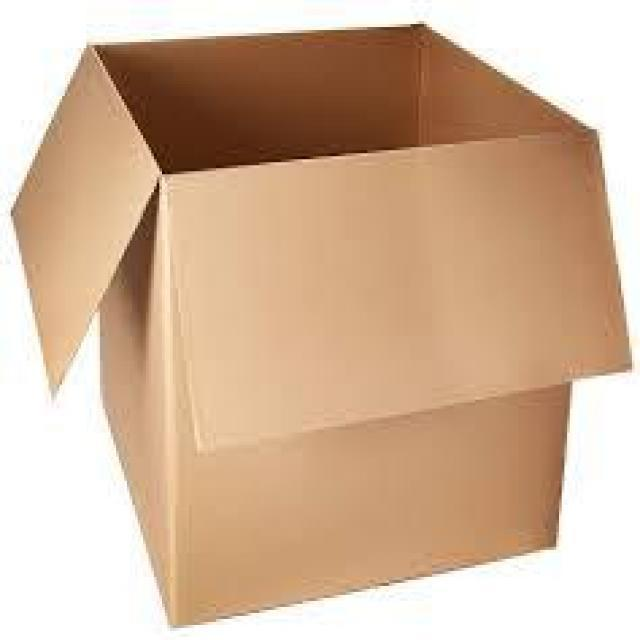box: (20, 42, 587, 622)
